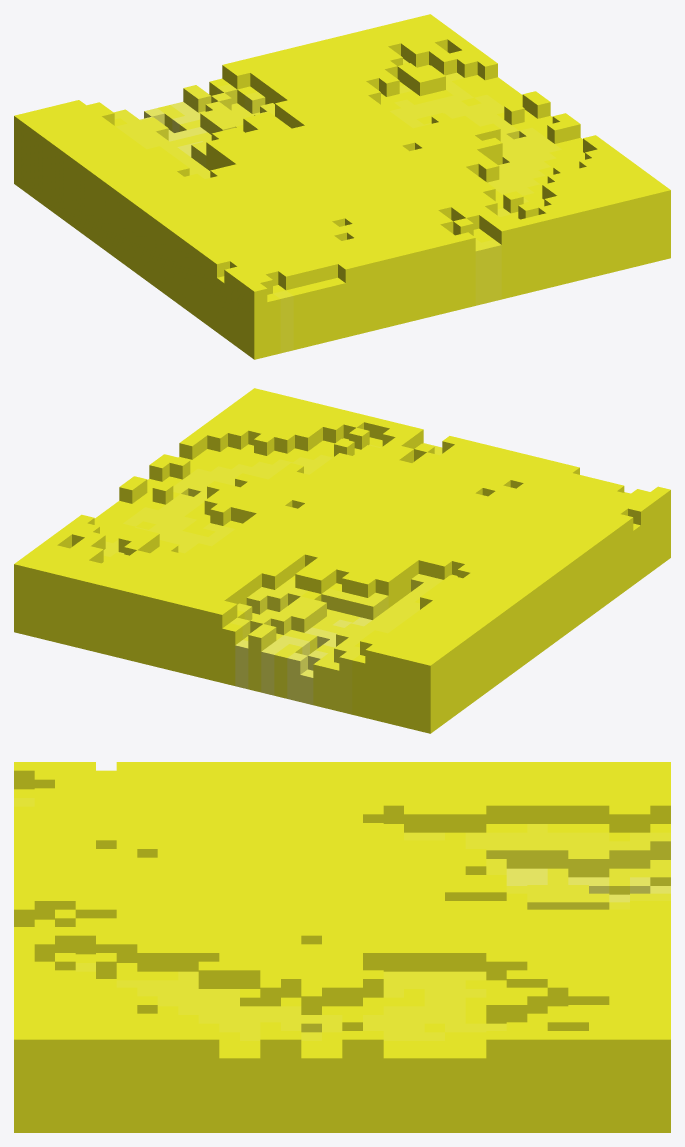
File: Destert Map-2.obj
3 renders of one model, top to bottom at view 1: azimuth 30°, elevation 25°; view 2: azimuth 150°, elevation 25°; view 3: azimuth 270°, elevation 25°, orthographic. The views are drawn at different scales.
Bounding box in the file's own units: 3.2 × 0.5 × 3.2.
1 material, 1 textured.
